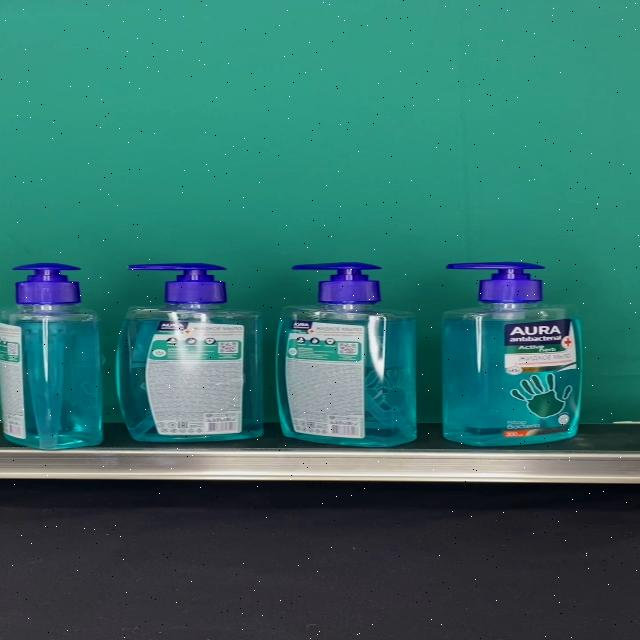Bottle: (115, 263, 263, 442), (275, 263, 417, 447), (442, 263, 581, 447), (0, 262, 103, 450)
Cap: (446, 263, 546, 305), (128, 262, 226, 304), (292, 263, 384, 305), (12, 263, 82, 305)
